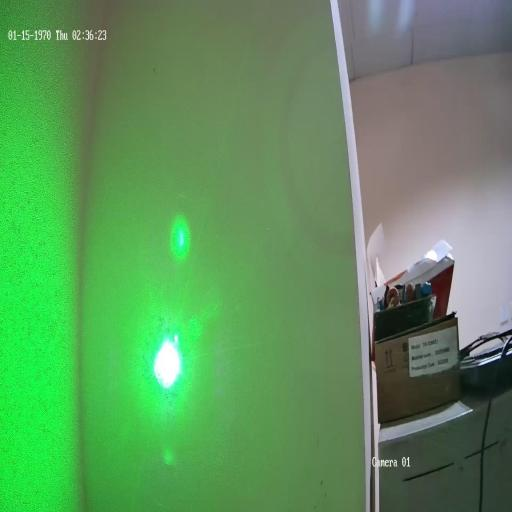laser: (148, 323, 188, 403)
